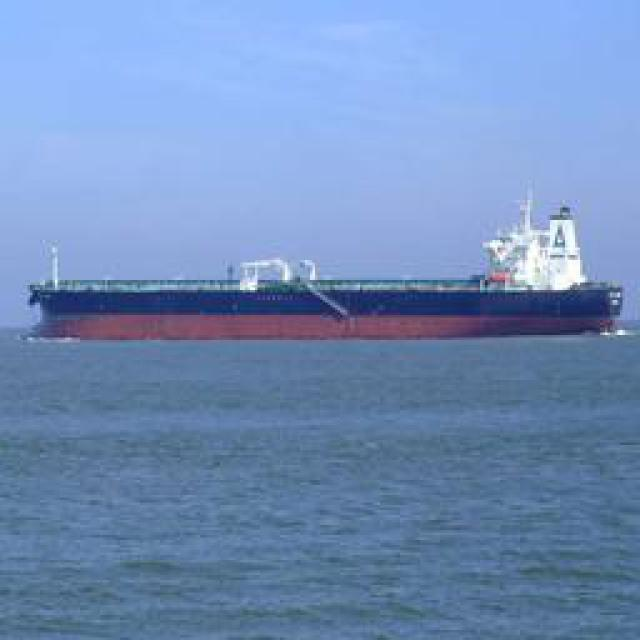Ship: (33, 233, 628, 338)
